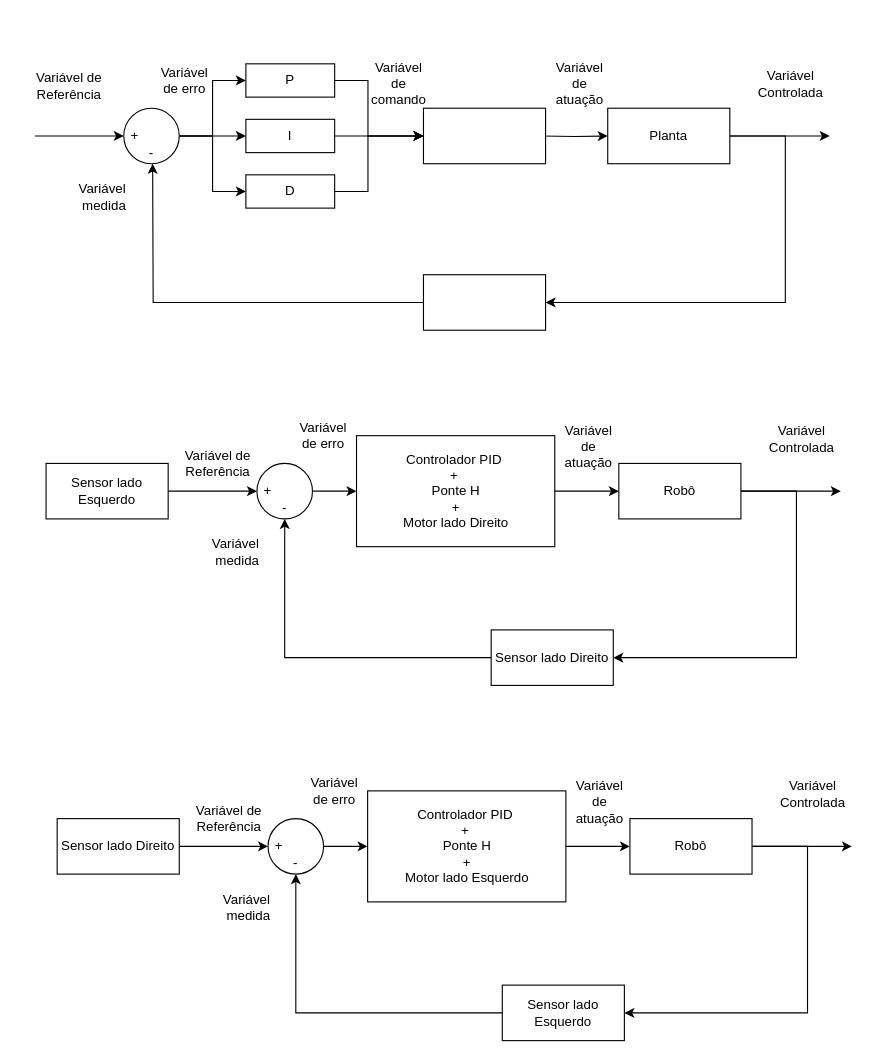
This 881x1060 diagram has some shape labels left out. The shapes that lost their labels are listed below. From the top down, each one's centre as x and y in pixels, then its label:
At (484,135): "Atuador".
At (484,302): "Sensor".
